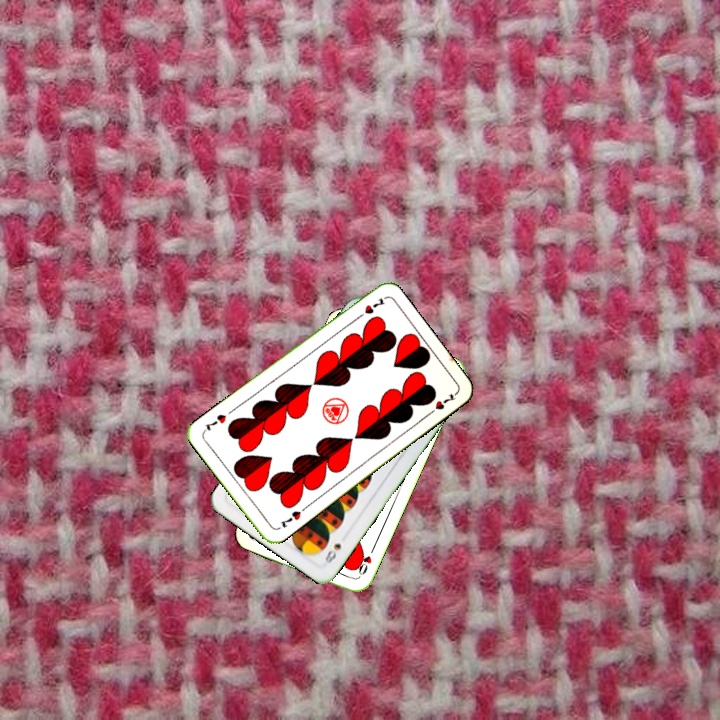H7: (352, 294, 387, 322), (276, 506, 304, 530)
HO: (351, 544, 377, 582)
S8: (321, 539, 344, 566)
